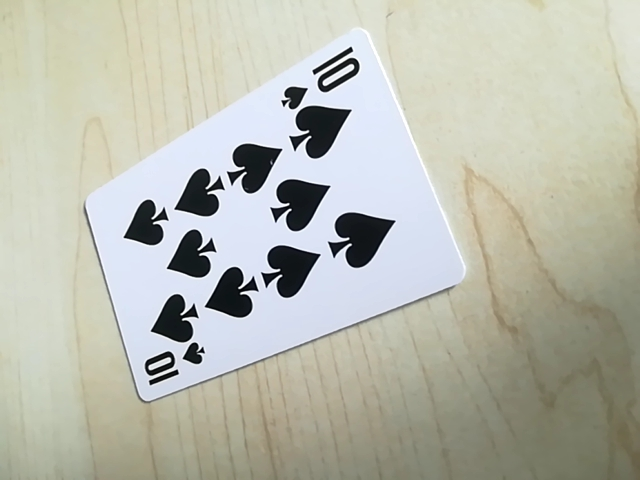ht 10: (280, 43, 367, 105), (134, 339, 209, 395)
